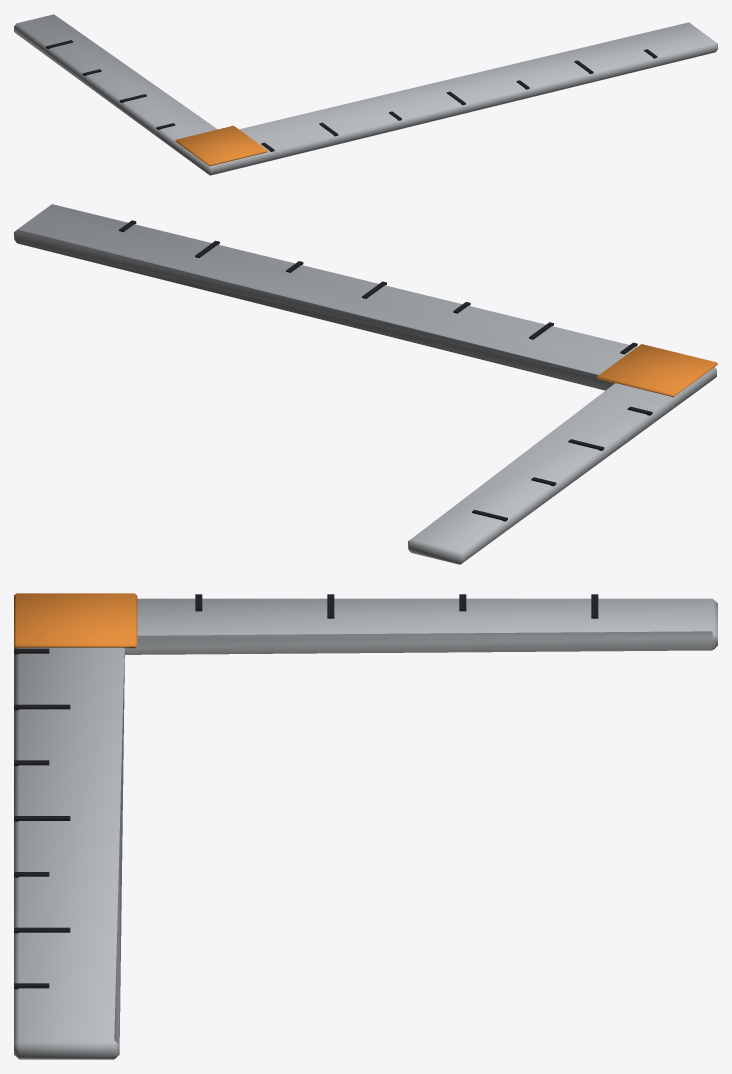
File: SM_Square_Framing_01.glb
3 renders of one model, top to bottom at view 1: azimuth 30°, elevation 25°; view 2: azimuth 150°, elevation 25°; view 3: azimuth 270°, elevation 25°, orthographic. The views are drawn at different scales.
Visible parts, largest first — view 1: SM_Square_Framing_01; view 2: SM_Square_Framing_01; view 3: SM_Square_Framing_01.
Part boxes in pixels (x1,y1,x2,y2): SM_Square_Framing_01: (14,14,717,175); SM_Square_Framing_01: (14,204,717,564); SM_Square_Framing_01: (14,593,717,1059).
Bounding box in the file's own units: 0.6 × 0.0145 × 0.4.
Materials: 1 (1 with a texture image).
